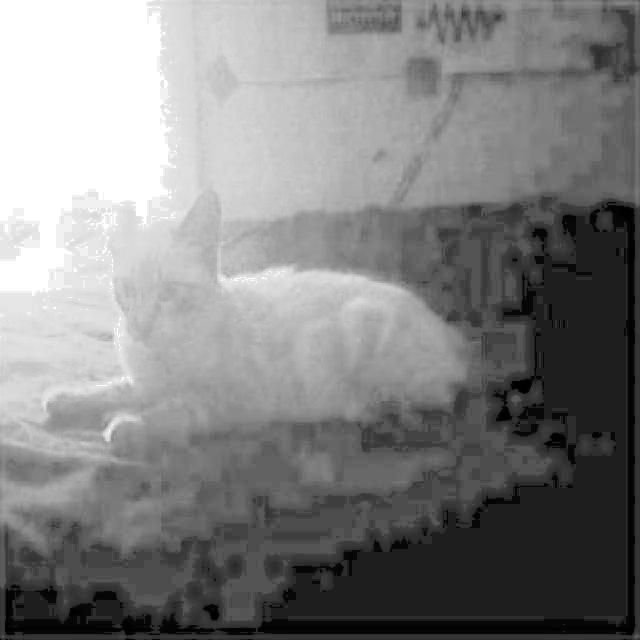Cat: (37, 179, 463, 456)
